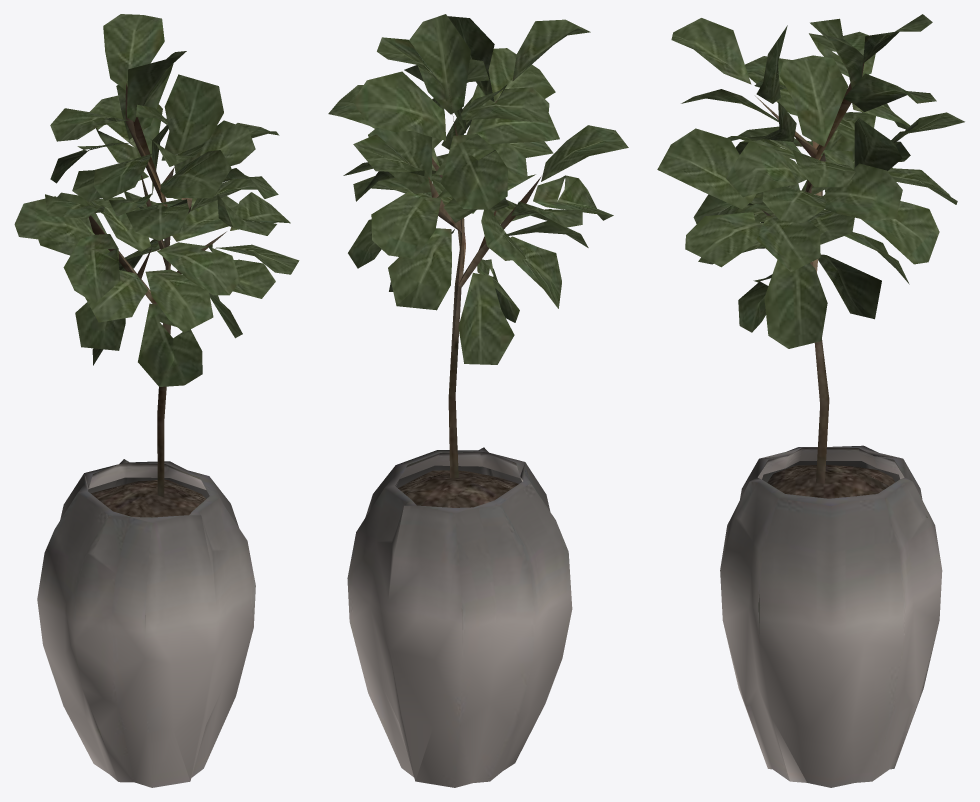
The model's file is Plant0015.obj.
3 views of the same model, side by side, from view 1: azimuth 30°, elevation 25°; view 2: azimuth 150°, elevation 25°; view 3: azimuth 270°, elevation 25° (orthographic). The views are drawn at different scales.
Size of the model in its own units: 0.709 by 1.88 by 0.697.
Materials: 1 (1 with a texture image).
